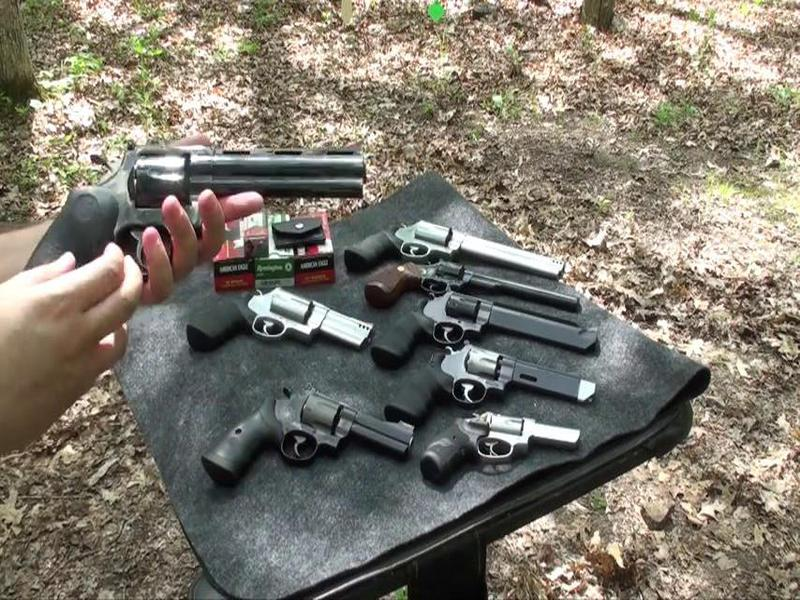Revolver: (24, 116, 360, 322)
